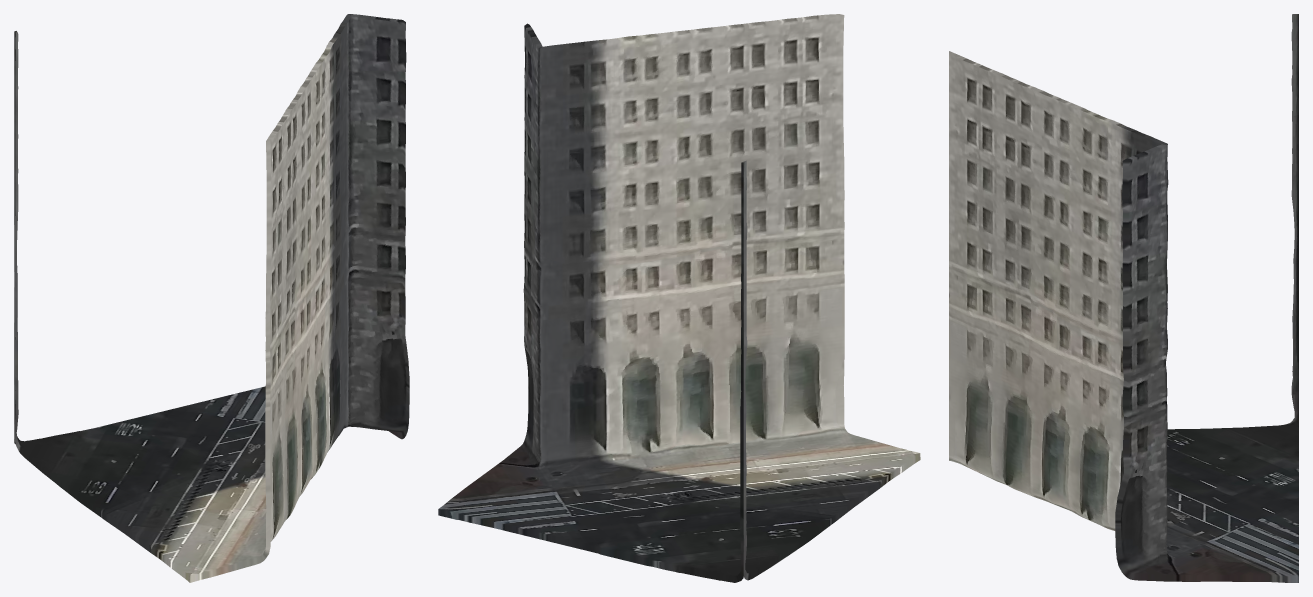
Rendered from z20-167780-405232-h0-yup-uvflip-v3-world.glb.
3 views of the same model, side by side, from view 1: azimuth 30°, elevation 25°; view 2: azimuth 150°, elevation 25°; view 3: azimuth 270°, elevation 25° (orthographic).
Bounding box in the file's own units: 30.2 × 40.32 × 30.32.
Materials: 1 (1 with a texture image).
